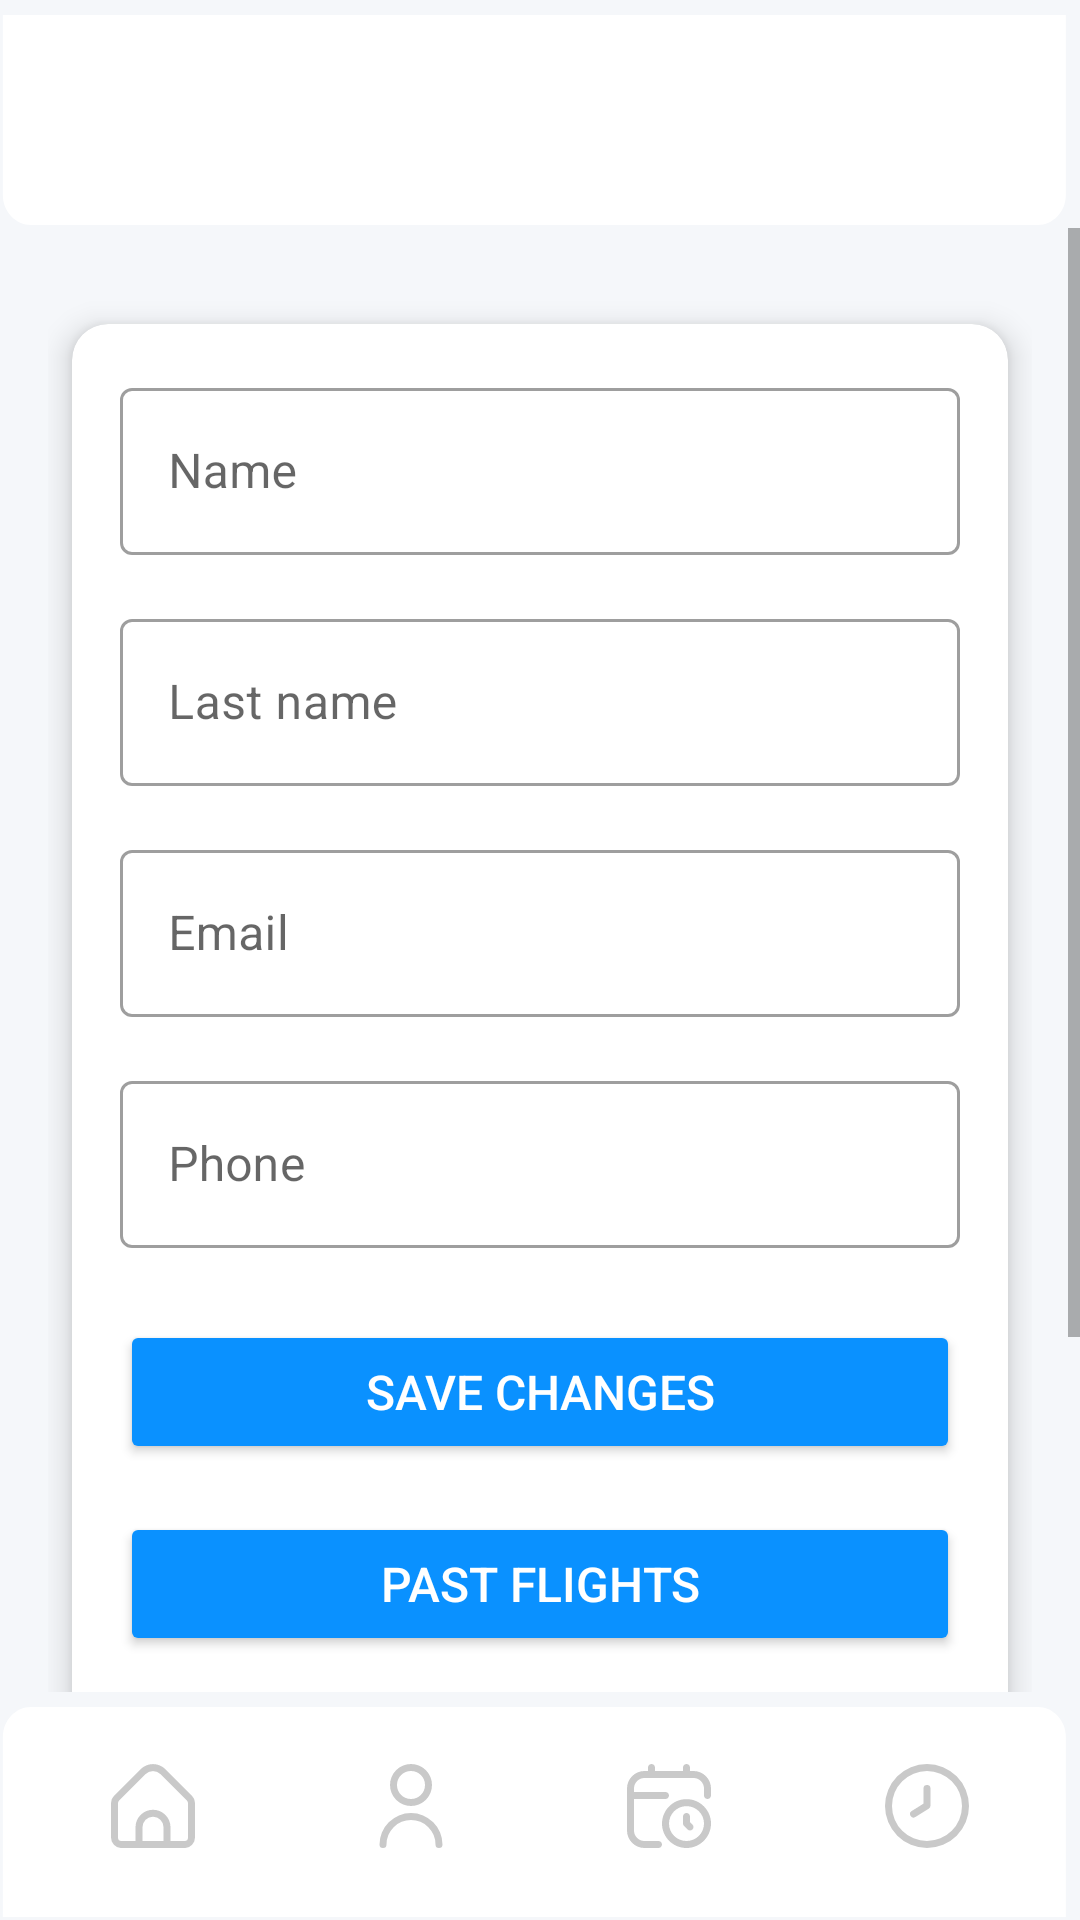

Named icons in this screenshot (1080 × 1920) and their centers, (x=x, y=y):
calendar clock: (x=669, y=1806)
clock: (x=927, y=1806)
home: (x=153, y=1806)
user: (x=411, y=1806)
